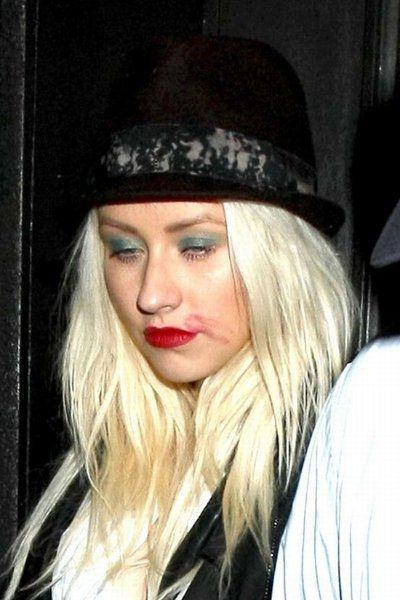Drunk: (100, 212, 241, 371)
